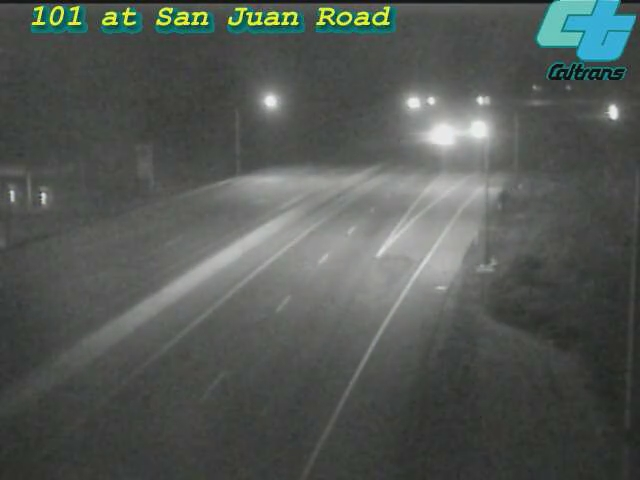vehicle: (415, 109, 465, 159), (456, 104, 506, 154), (588, 87, 638, 137)
